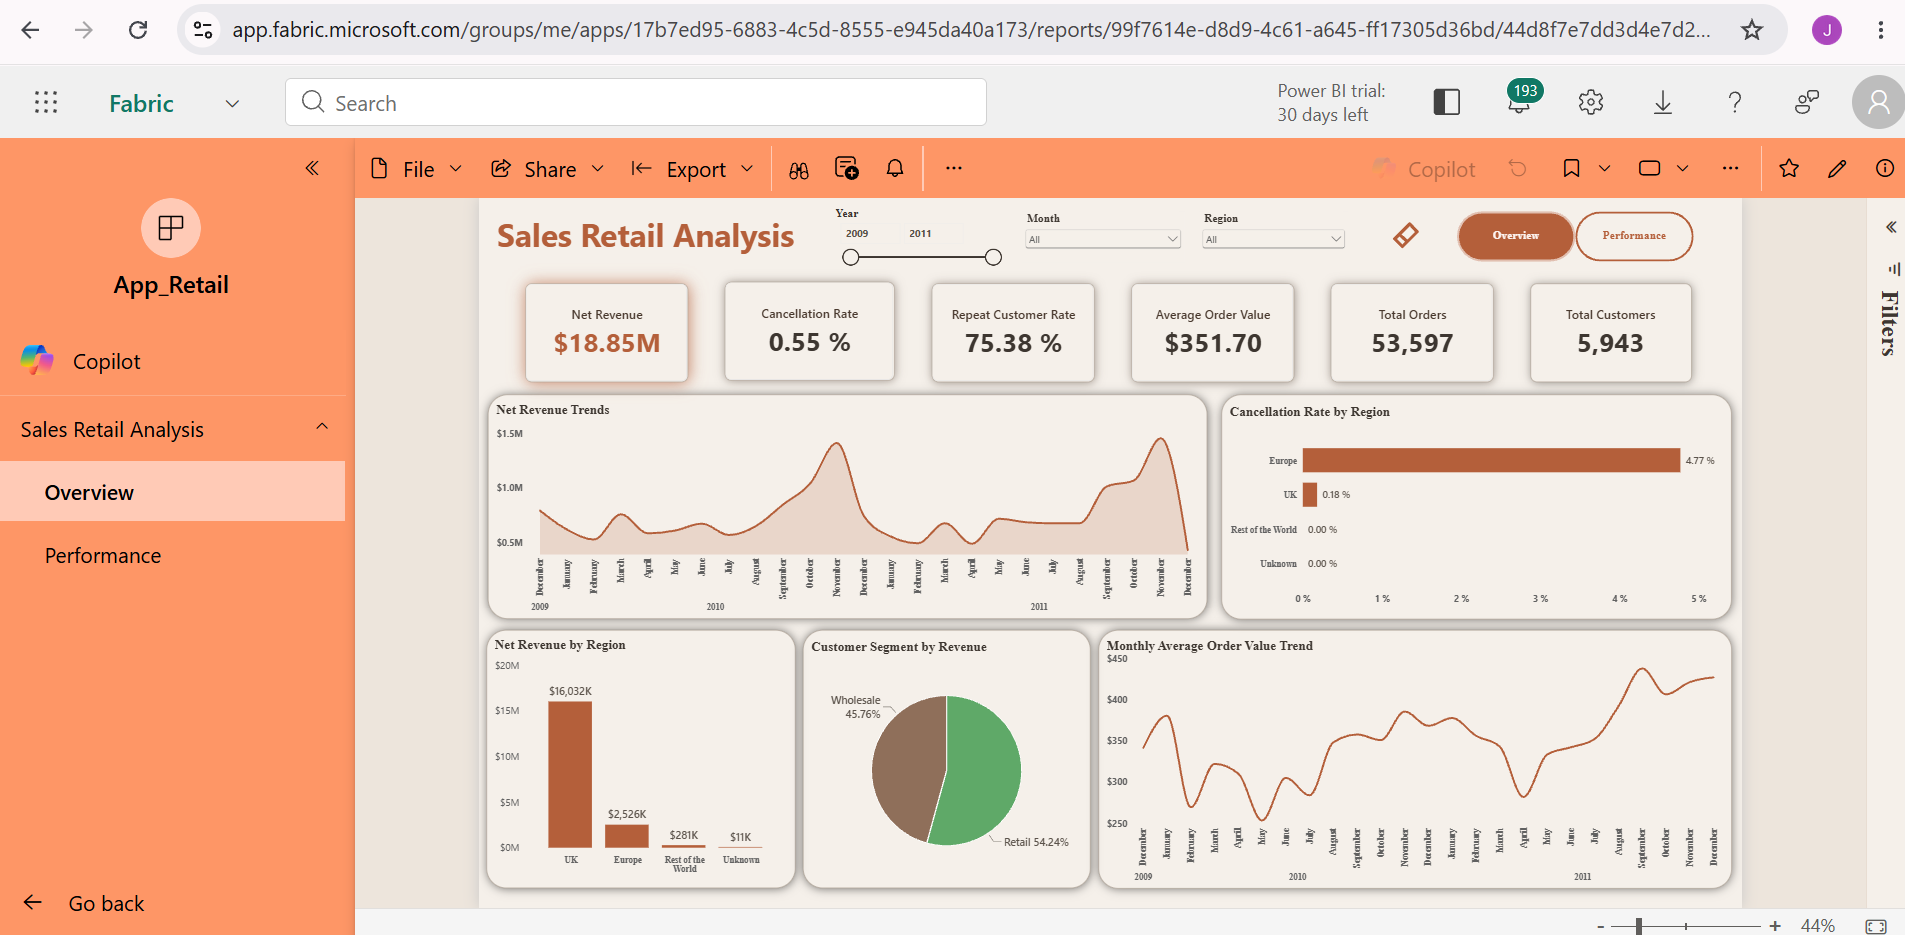

Layout of this report page (visuals, bound fields, positions):
{"tool":"powerbi","page":{"name":"Overview","canvas":[1920,1080],"ordinal":0},"visuals":[{"type":"textbox","box":[26.7,23.3,470,90],"z":0},{"type":"cardVisual","fields":{"Data":["fact_sales.Net Revenue"]},"box":[70,130,247.5,150],"z":1000},{"type":"slicer","title":"Year","fields":{"Values":["dim_date.year"]},"box":[536.7,13.3,262.5,93.8],"z":2000},{"type":"slicer","fields":{"Values":["dim_date.month_name"]},"box":[826.7,21.7,247.1,77.1],"z":3000},{"type":"slicer","fields":{"Values":["dim_region.region"]},"box":[1095,21.7,226.7,76.7],"z":4000},{"type":"cardVisual","fields":{"Data":["dim_customer.Cancellation Rate"]},"box":[374,128.8,257.7,150.3],"z":5000},{"type":"cardVisual","fields":{"Data":["fact_sales.Average Order Value"]},"box":[992.1,130,247.5,150],"z":6000},{"type":"clusteredColumnChart","title":"Net Revenue by Region","fields":{"Category":["dim_region.region"],"Y":["fact_sales.Net Revenue"]},"box":[12.9,657.1,470,404.3],"z":7000},{"type":"lineChart","title":"Net Revenue Trends","fields":{"Category":["dim_date.year","dim_date.month_name"],"Y":["fact_sales.Net Revenue"]},"box":[12.9,300,1094.3,341.4],"z":8000},{"type":"pageNavigator","box":[1486.7,20,360,76.7],"z":10000},{"type":"actionButton","box":[1367.5,17.5,86.7,76.7],"z":11000},{"type":"pieChart","title":"Customer Segment by Net Revenue","fields":{"Category":["dim_customer.customer_segment"],"Y":["fact_sales.Net Revenue"]},"box":[497.9,657.1,437.1,404.3],"z":12000},{"type":"cardVisual","fields":{"Data":["fact_sales.order count"]},"box":[1296,130,247.5,150],"z":13000},{"type":"cardVisual","fields":{"Data":["fact_sales.Customer Count"]},"box":[1600,130,245,150],"z":14000},{"type":"clusteredBarChart","title":"Cancellation Rate by Region","fields":{"Category":["dim_region.region"],"Y":["dim_customer.Cancellation Rate"]},"box":[1128.9,300,776.3,342.1],"z":15000},{"type":"cardVisual","fields":{"Data":["fact_sales.Repeat Customer Rate1"]},"box":[688.1,130,247.5,150],"z":16000},{"type":"pivotTable","title":"High-Volume Products: Cancellation Risk","fields":{"Rows":["dim_product.description"],"Values":["fact_sales.Net Revenue","fact_sales.order count","dim_customer.Cancelled Orders","dim_customer.Cancellation Rate"]},"box":[950,657.1,957.1,404.3],"z":17001}]}

Visuals, with their boxes on the page's 1920x1080 design canvas (x1, y1, x2, y2). These are canvas units, not pixel positions in the 1905x935 screenshot, which may show the page scaled, cropped or inside an application window:
textbox: Rect(27, 23, 497, 113)
cardVisual - fact_sales.Net Revenue: Rect(70, 130, 318, 280)
"Year" slicer: Rect(537, 13, 799, 107)
slicer - dim_date.month_name: Rect(827, 22, 1074, 99)
slicer - dim_region.region: Rect(1095, 22, 1322, 98)
cardVisual - dim_customer.Cancellation Rate: Rect(374, 129, 632, 279)
cardVisual - fact_sales.Average Order Value: Rect(992, 130, 1240, 280)
"Net Revenue by Region" clusteredColumnChart: Rect(13, 657, 483, 1061)
"Net Revenue Trends" lineChart: Rect(13, 300, 1107, 641)
pageNavigator: Rect(1487, 20, 1847, 97)
actionButton: Rect(1368, 18, 1454, 94)
"Customer Segment by Net Revenue" pieChart: Rect(498, 657, 935, 1061)
cardVisual - fact_sales.order count: Rect(1296, 130, 1544, 280)
cardVisual - fact_sales.Customer Count: Rect(1600, 130, 1845, 280)
"Cancellation Rate by Region" clusteredBarChart: Rect(1129, 300, 1905, 642)
cardVisual - fact_sales.Repeat Customer Rate1: Rect(688, 130, 936, 280)
"High-Volume Products: Cancellation Risk" pivotTable: Rect(950, 657, 1907, 1061)
